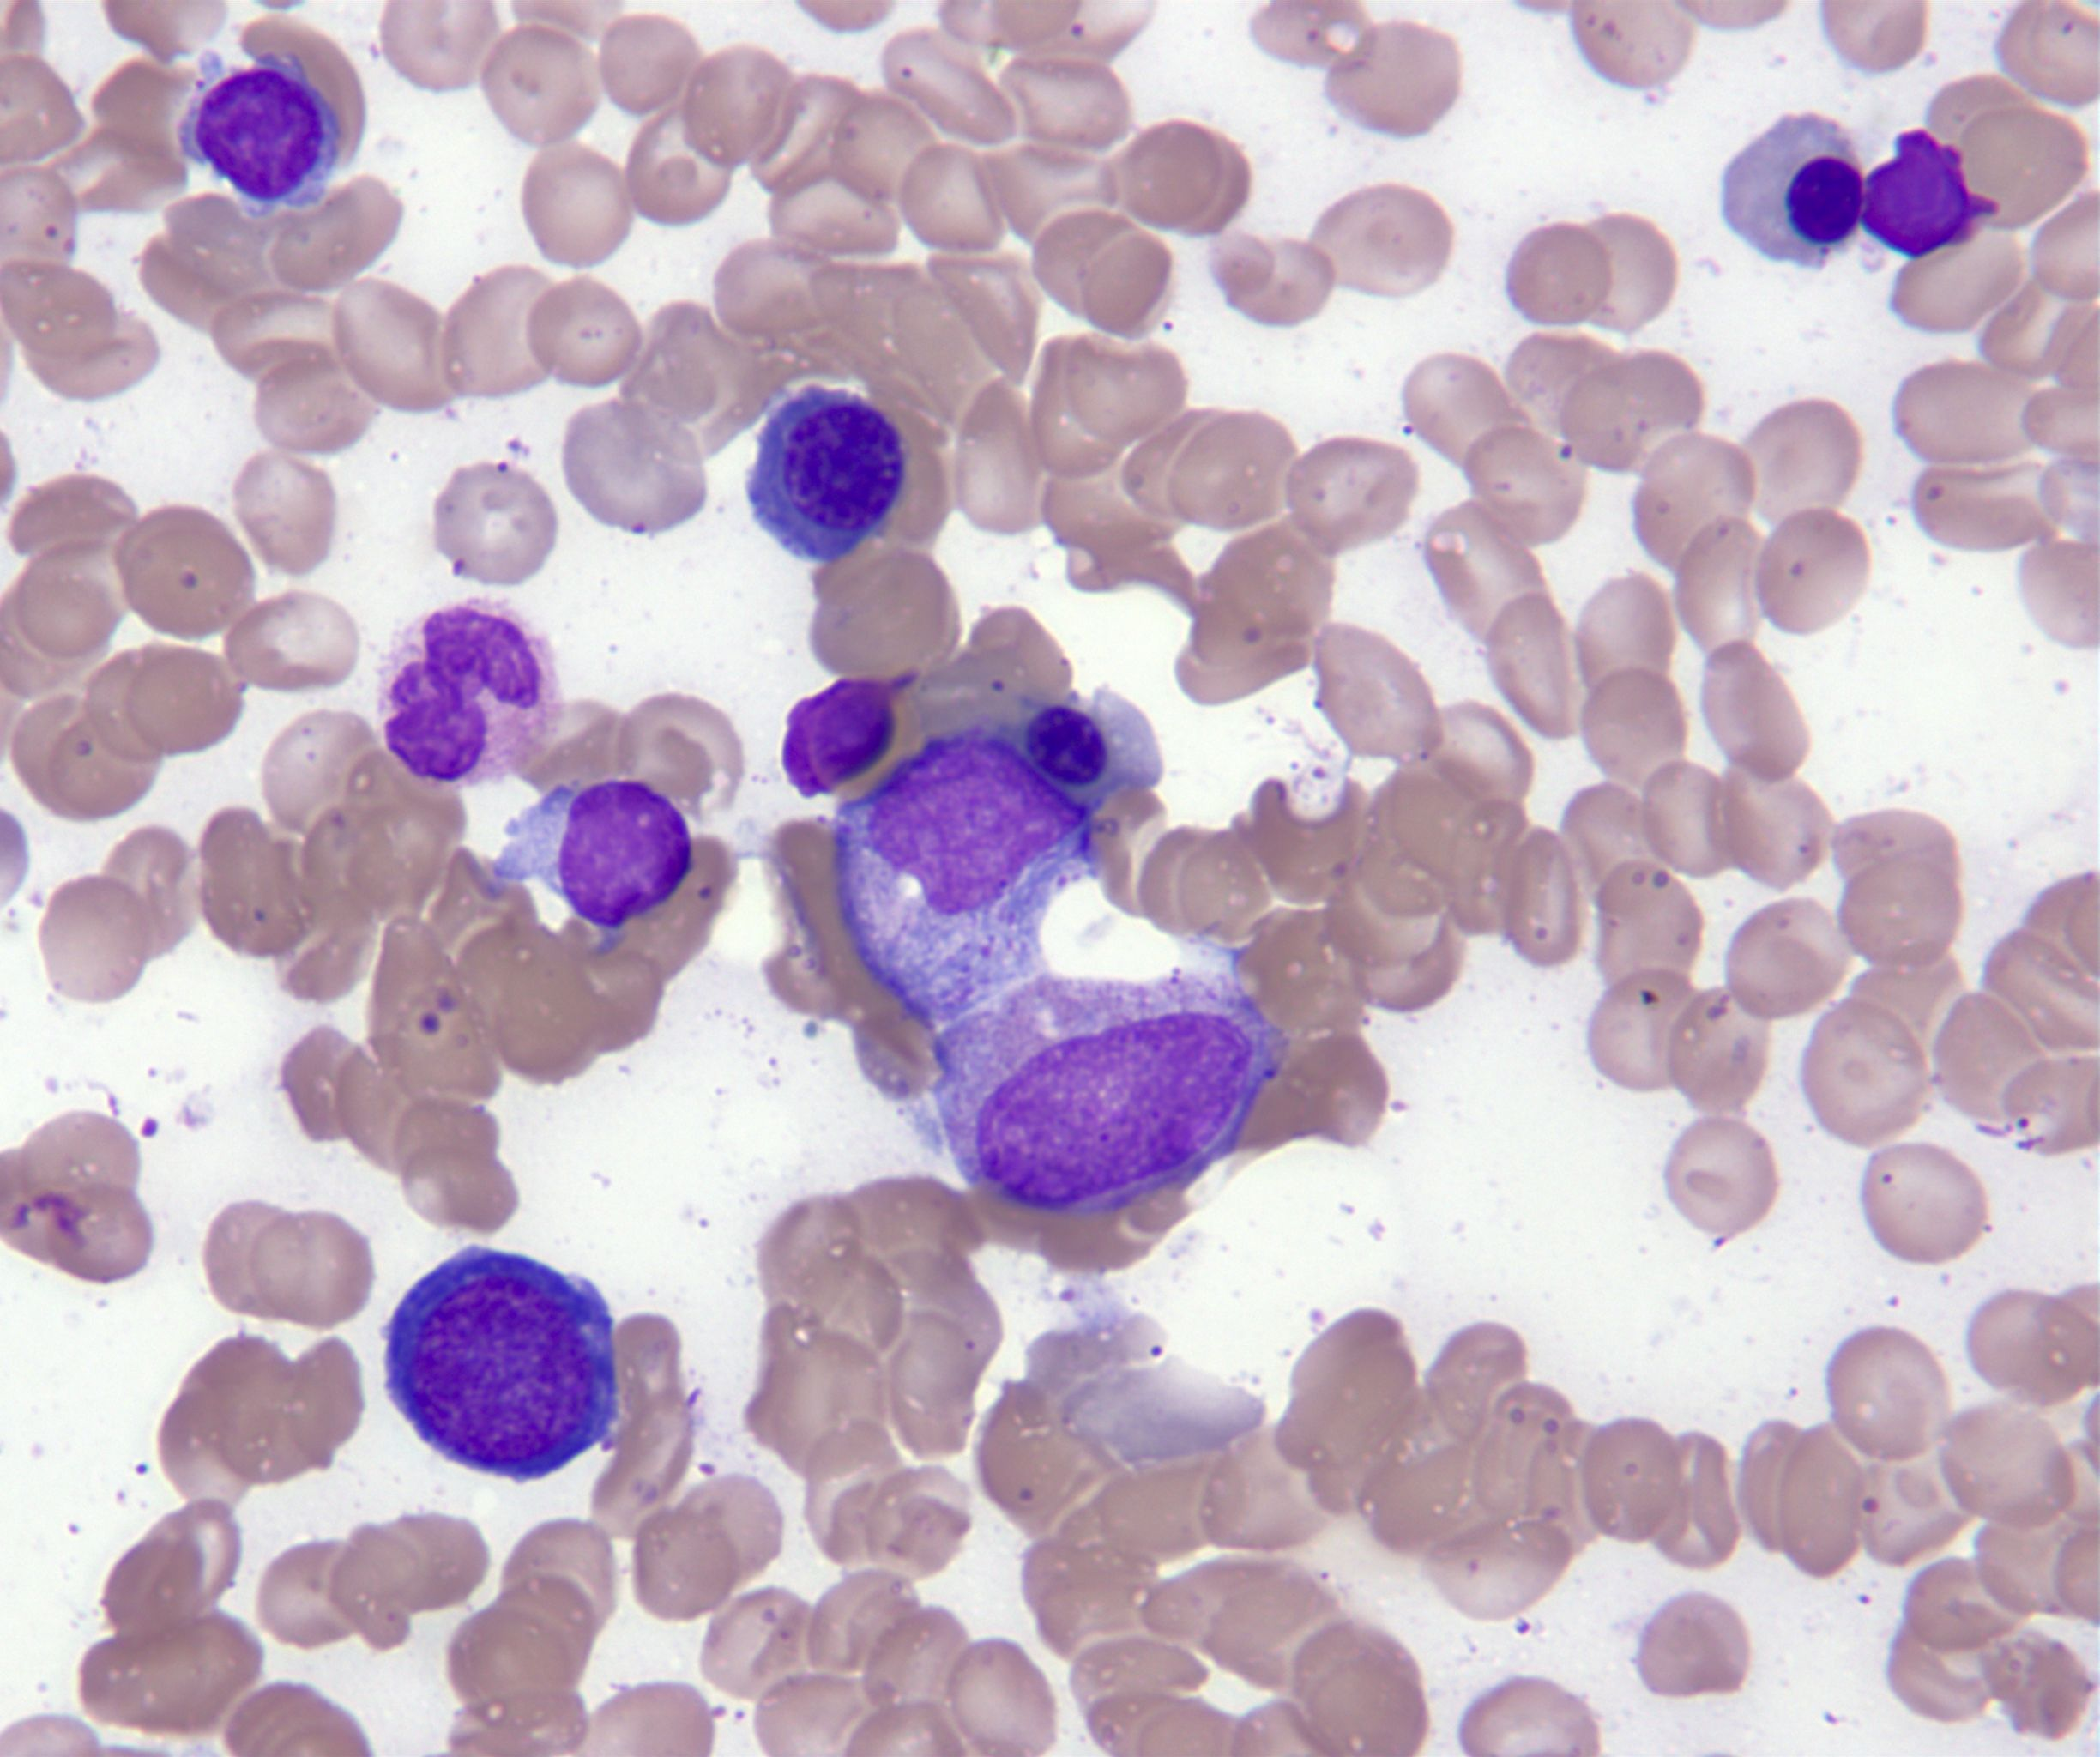2: (834, 733, 1088, 1028)
22: (378, 1242, 617, 1483)
23: (745, 386, 907, 565)
24: (982, 686, 1162, 811), (1723, 112, 1865, 269)
3: (924, 940, 1289, 1214)
32: (478, 780, 692, 954), (174, 47, 342, 222)
5: (378, 597, 562, 790)
x: (781, 668, 919, 799), (1859, 129, 1999, 258)
